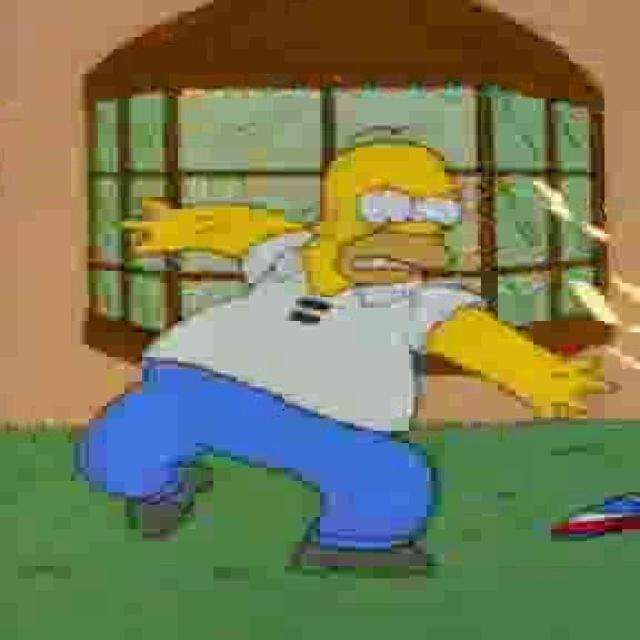Homer Simpson: (314, 118, 476, 291)
